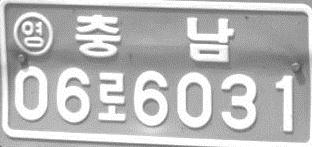0: (176, 71, 211, 129), (13, 65, 48, 121)
1: (266, 75, 303, 132)
3: (220, 72, 258, 131)
6: (55, 65, 91, 123), (132, 69, 168, 127)
로: (97, 71, 126, 123)
영: (12, 11, 53, 55)
충남_D: (75, 13, 235, 62)
